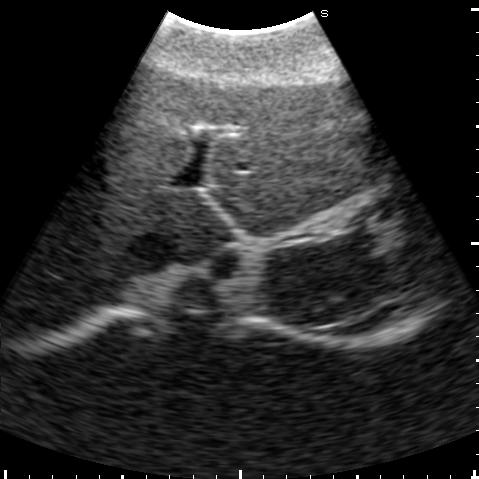IVC: (120, 234, 180, 278)
S1: (171, 194, 235, 263)
S2: (210, 154, 401, 236)
S3: (202, 76, 391, 200)
